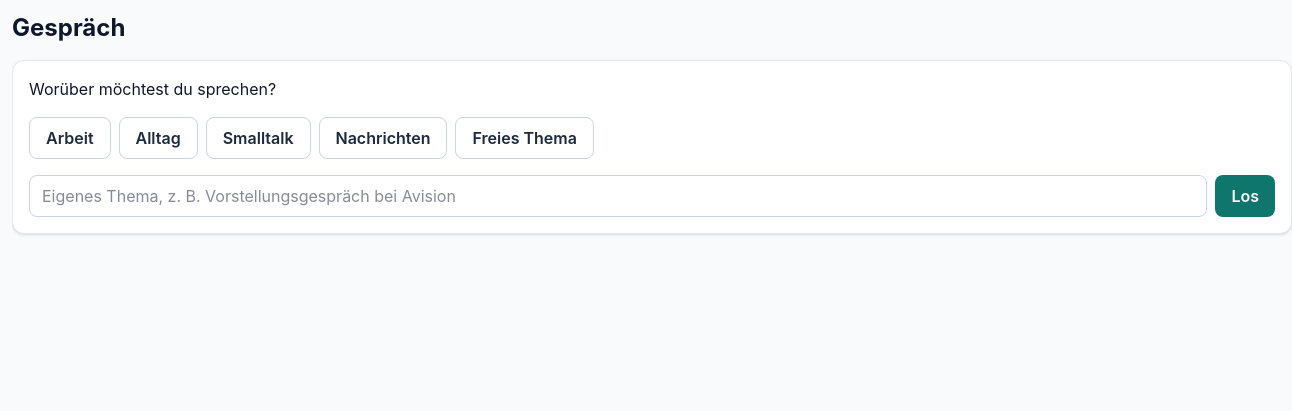
Gespräch › release before the permission resolves discards the recording
Click the button "Arbeit".
click(70, 138)  # box [29,117,110,159]
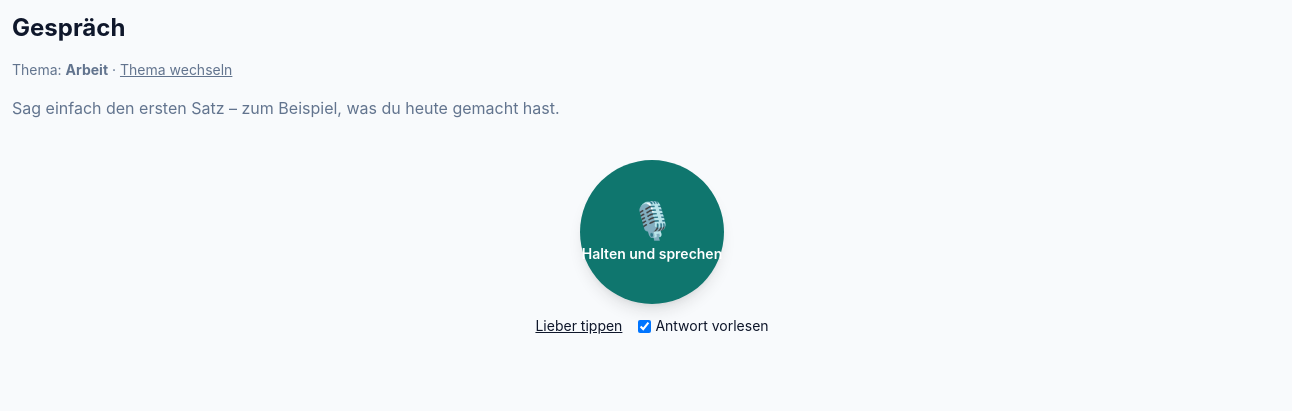
Expected: the button "🎙️ Halten und sprechen" is shown
Press the mouse on the button "🎙️ Halten und sprechen" at (652, 232), box [580,160,724,304]
Press the mouse on the button "🎙️ Halten und sprechen" at (652, 232), box [580,160,724,304]
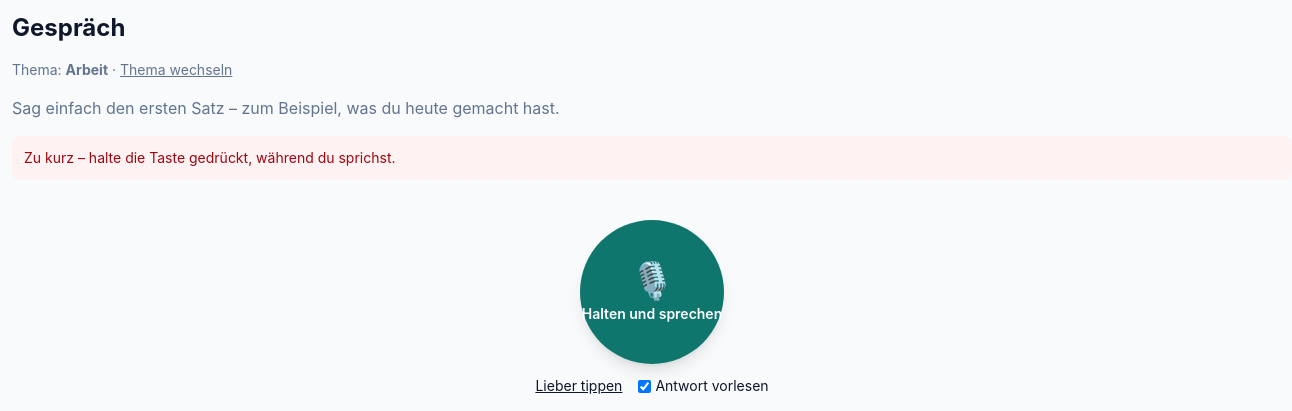
Expected: the message shows "Zu kurz", [24,149,396,166]
